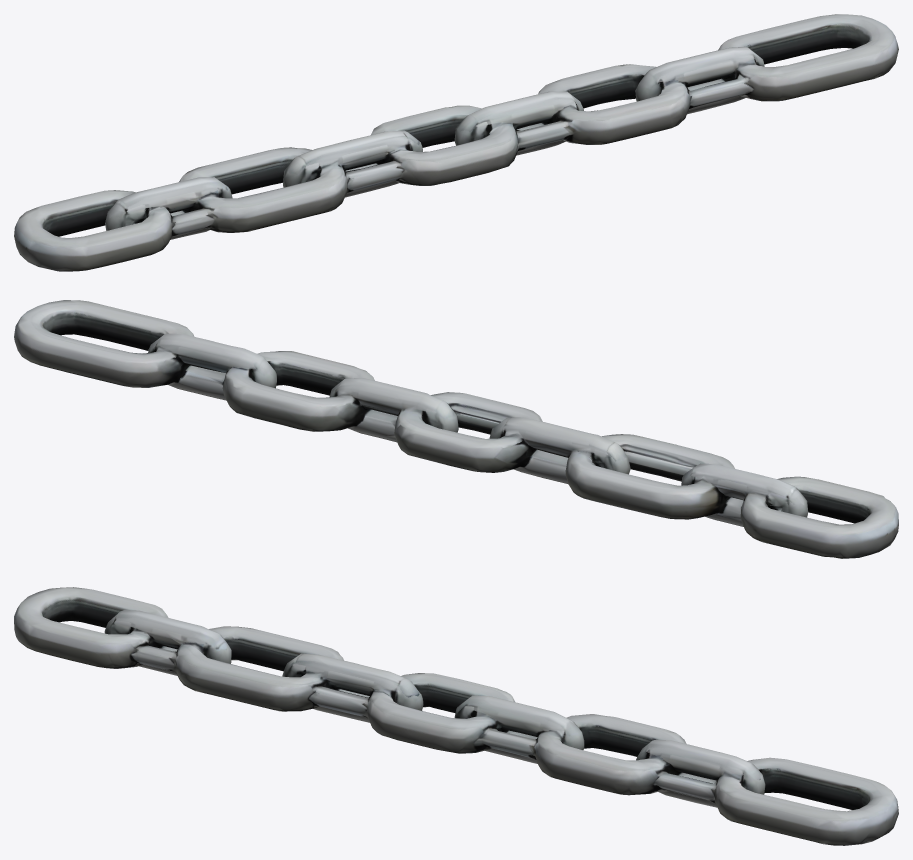
Rendered from tripo_convert_d24b4eb4-7257-435f-9b0c-b0a6ffe1644f.fbx.
3 renders of one model, top to bottom at view 1: azimuth 30°, elevation 25°; view 2: azimuth 150°, elevation 25°; view 3: azimuth 330°, elevation 25°, orthographic.
Parts seen in each view (by area): view 1: tripo_node_d24b4eb4; view 2: tripo_node_d24b4eb4; view 3: tripo_node_d24b4eb4.
Boxes of the visible parts, x1,y1,x2,y2 form: tripo_node_d24b4eb4: (14,14,898,271); tripo_node_d24b4eb4: (14,300,898,558); tripo_node_d24b4eb4: (14,587,898,845).
Bounding box in the file's own units: 0.9995 × 0.0591 × 0.1155.
Materials: 1 (1 with a texture image).
